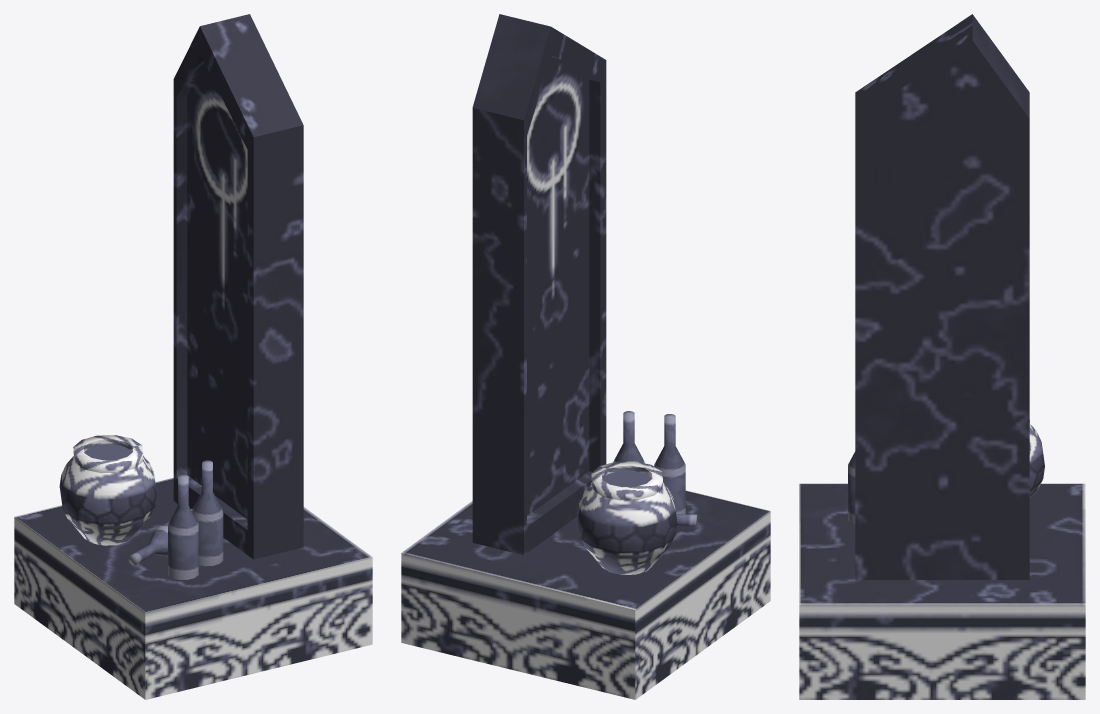
File: gravestone.fbx
3 renders of one model, left to right at view 1: azimuth 30°, elevation 25°; view 2: azimuth 150°, elevation 25°; view 3: azimuth 270°, elevation 25°, orthographic. The views are drawn at different scales.
Visible parts, largest first — view 1: gravestone; view 2: gravestone; view 3: gravestone.
Boxes of the visible parts, bbox=[...] form: gravestone: bbox=[14, 14, 372, 699]; gravestone: bbox=[401, 14, 770, 699]; gravestone: bbox=[799, 14, 1085, 699].
Size of the model in its own units: 6 by 14.7 by 6.
1 material, 1 textured.
